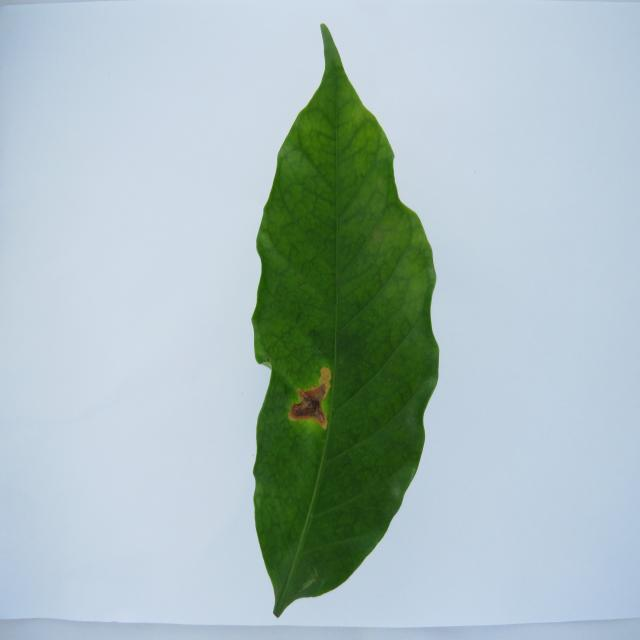DeficienciaNutricional-Hierro: (252, 25, 439, 617)
